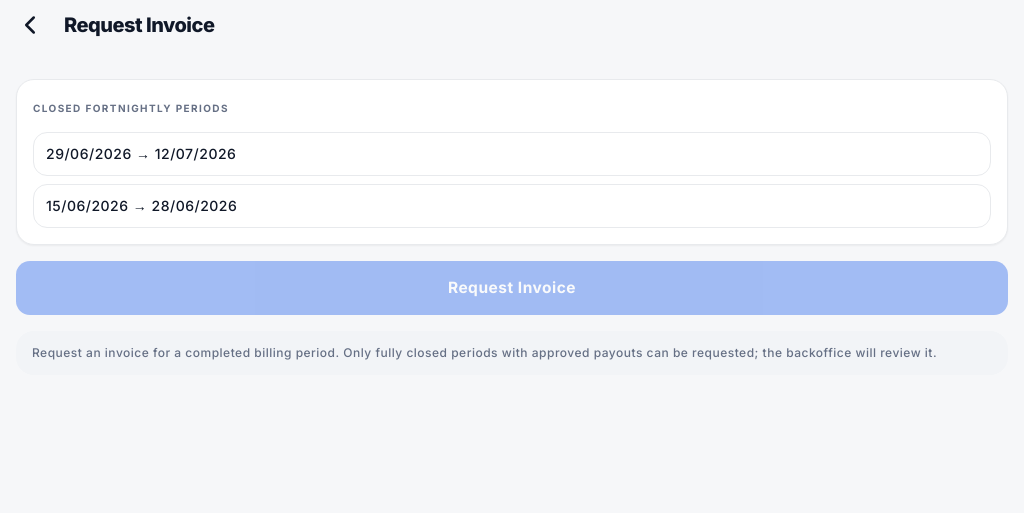
Test: RequestInvoicePage › lists closed periods, previews a selection, and submits a request
The width and height of the screenshot is (1024, 513).
# Select the first period → preview loads.
Click the radio button with test id "period-option": click(89, 154) 33,132 -> 991,176
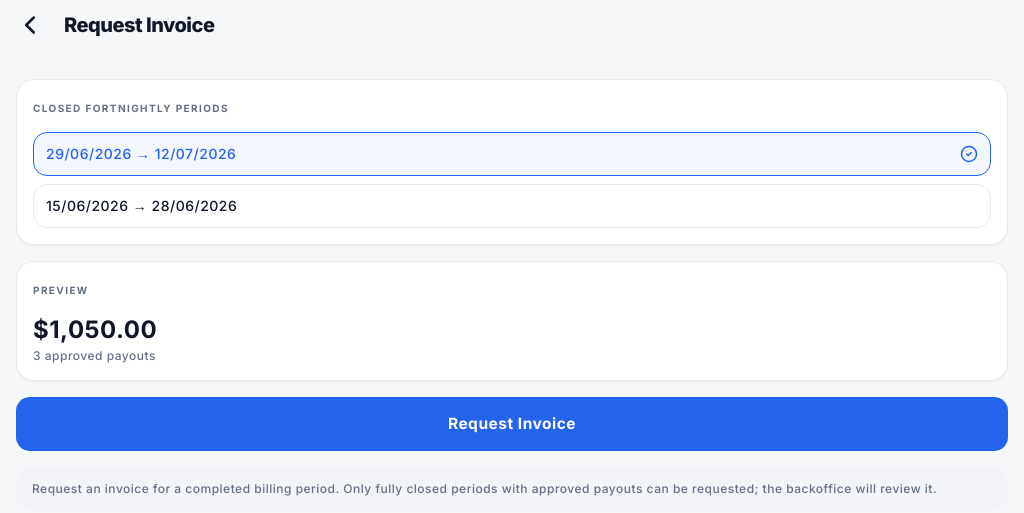
Check: the element with test id "request-invoice-preview" reads "Preview $1,050.00 3 approved payouts", box 33,315 -> 157,344
Check: the element with test id "request-invoice-preview" shows "3 approved payouts", box 16,261 -> 1008,381
# Request the invoice → success card.
Click the button "Request Invoice": click(512, 424) 16,397 -> 1008,451
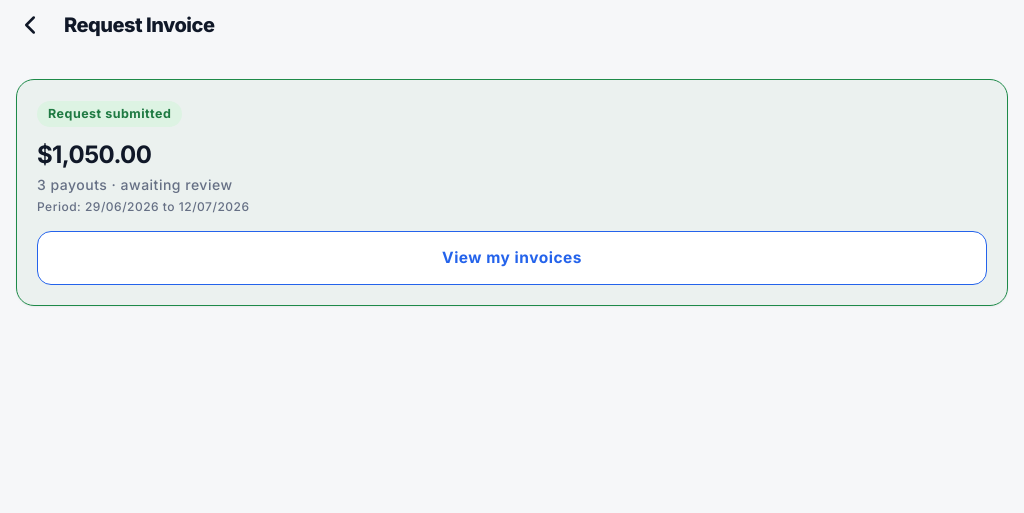
Check: the element with test id "request-invoice-success" is shown, box 16,79 -> 1008,306
